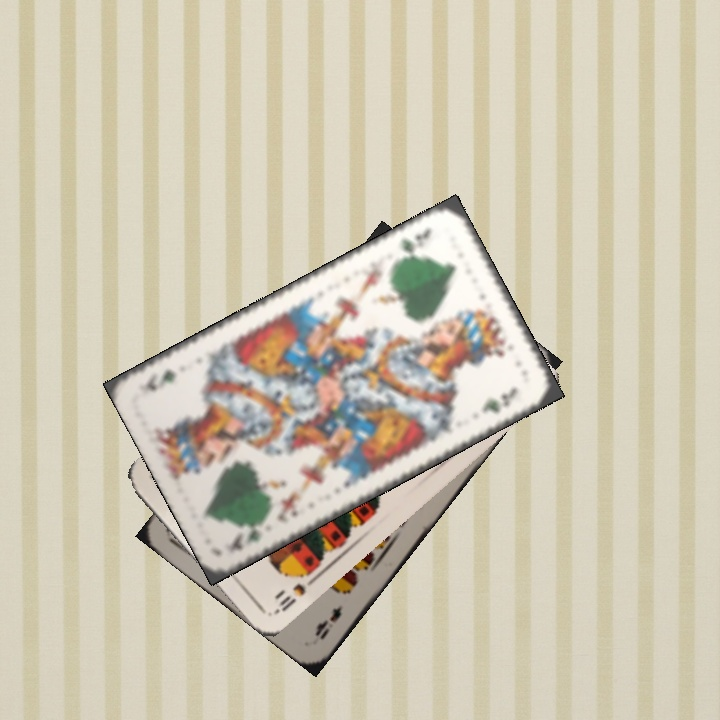E9: (311, 602, 346, 643)
GK: (224, 515, 271, 554), (394, 223, 435, 263)
S10: (271, 566, 320, 617)
